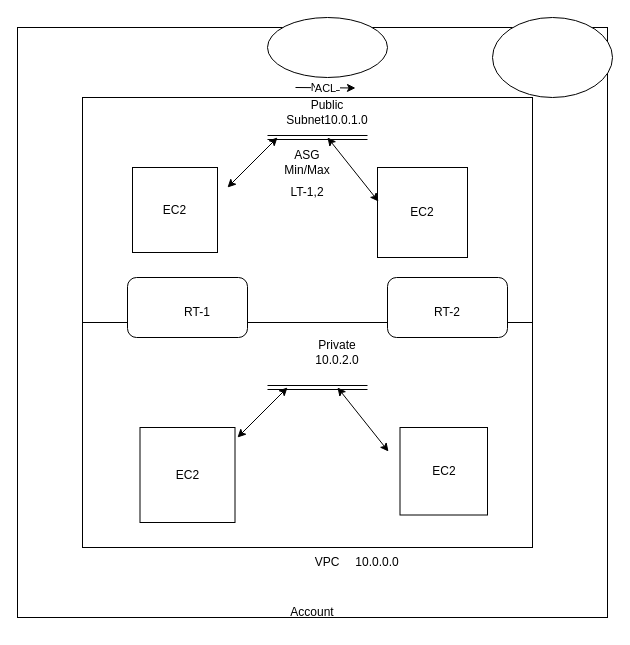
This 630x645 diagram has some shape labels left out. Each missing label, with the centre of its shape:
IG: the point at 552,57
Route53: the point at 327,47
